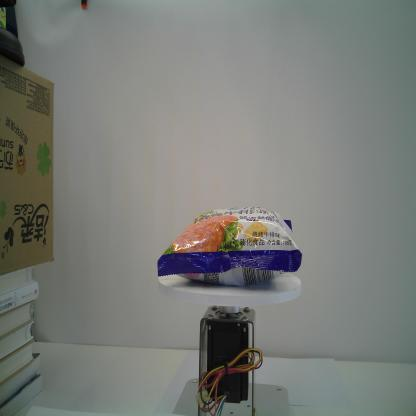Puffed Food: (158, 205, 302, 287)
